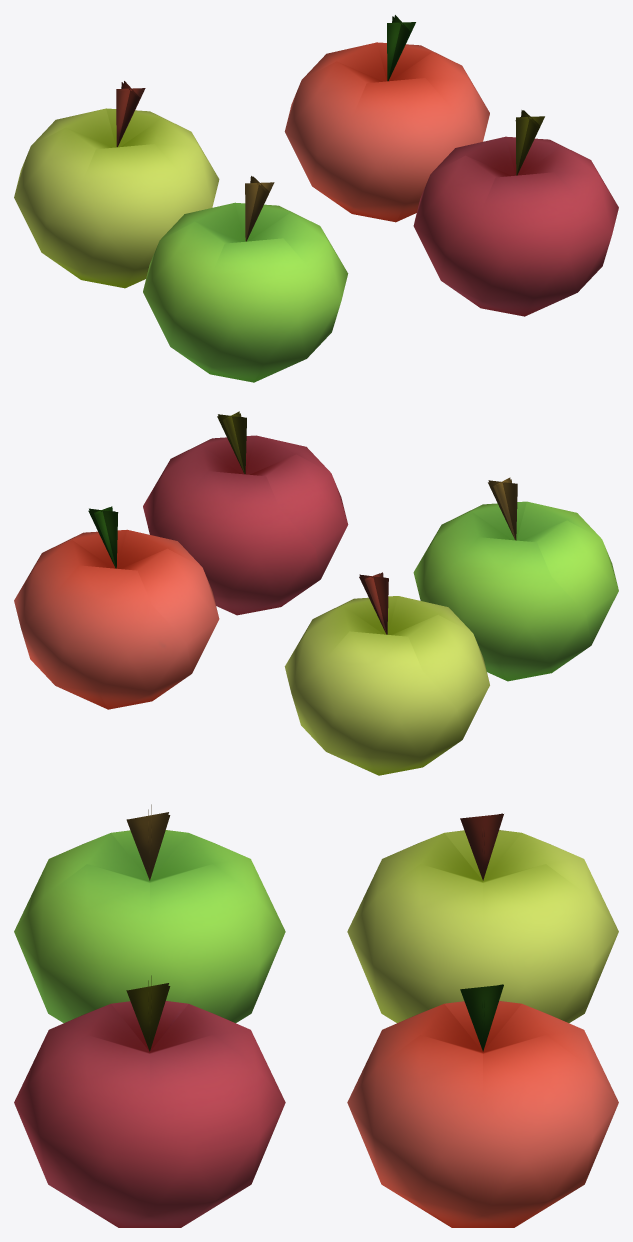
Rendered from saaapples.dae.
3 views of the same model, one above another, from view 1: azimuth 30°, elevation 25°; view 2: azimuth 150°, elevation 25°; view 3: azimuth 270°, elevation 25° (orthographic). The views are drawn at different scales.
Parts seen in each view (by area): view 1: DarkRedTreeApple, DarkGreenTreeApple, BrightGreenTreeApple, BrightRedTreeApple; view 2: BrightRedTreeApple, BrightGreenTreeApple, DarkGreenTreeApple, DarkRedTreeApple; view 3: DarkRedTreeApple, BrightRedTreeApple, DarkGreenTreeApple, BrightGreenTreeApple.
Part boxes in pixels (left/top/right/bottom): DarkRedTreeApple: left=413, top=110, right=618, bottom=316; DarkGreenTreeApple: left=143, top=176, right=348, bottom=382; BrightGreenTreeApple: left=14, top=81, right=219, bottom=288; BrightRedTreeApple: left=284, top=15, right=489, bottom=222; BrightRedTreeApple: left=14, top=506, right=219, bottom=709; BrightGreenTreeApple: left=284, top=572, right=489, bottom=775; DarkGreenTreeApple: left=413, top=477, right=618, bottom=681; DarkRedTreeApple: left=143, top=411, right=348, bottom=615; DarkRedTreeApple: left=14, top=975, right=285, bottom=1227; BrightRedTreeApple: left=347, top=984, right=618, bottom=1227; DarkGreenTreeApple: left=14, top=804, right=285, bottom=1022; BrightGreenTreeApple: left=347, top=813, right=618, bottom=1022.
Size of the model in its own units: 1.85 by 0.7219 by 1.68.
